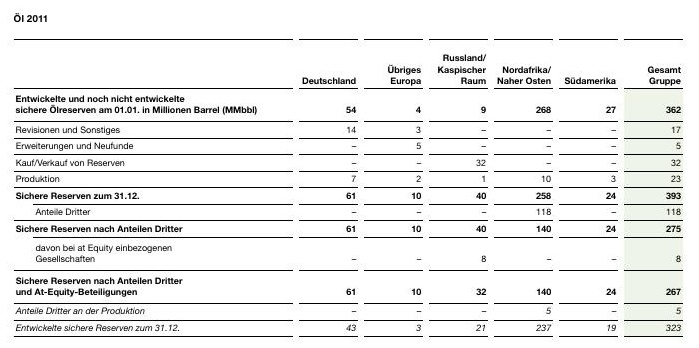table: (0, 0, 699, 348)
